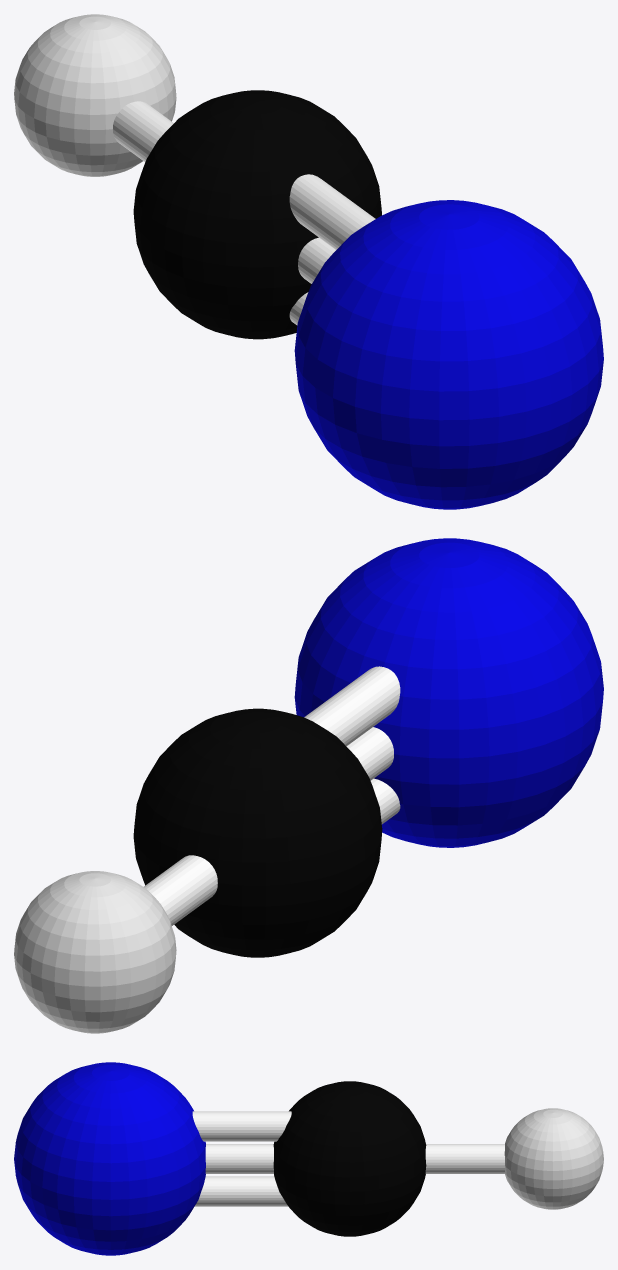
File: m_hcn.fbx
The picture shows the model from 3 angles, top to bottom: view 1: azimuth 30°, elevation 25°; view 2: azimuth 150°, elevation 25°; view 3: azimuth 270°, elevation 25°; orthographic projection. The views are drawn at different scales.
Parts seen in each view (by area): view 1: 구체.004; view 2: 구체.004; view 3: 구체.004.
Part boxes in pixels (x1,y1,x2,y2): 구체.004: [14, 14, 603, 509]; 구체.004: [14, 538, 603, 1033]; 구체.004: [14, 1062, 603, 1255].
Bounding box in the file's own units: 162 × 162 × 494.
